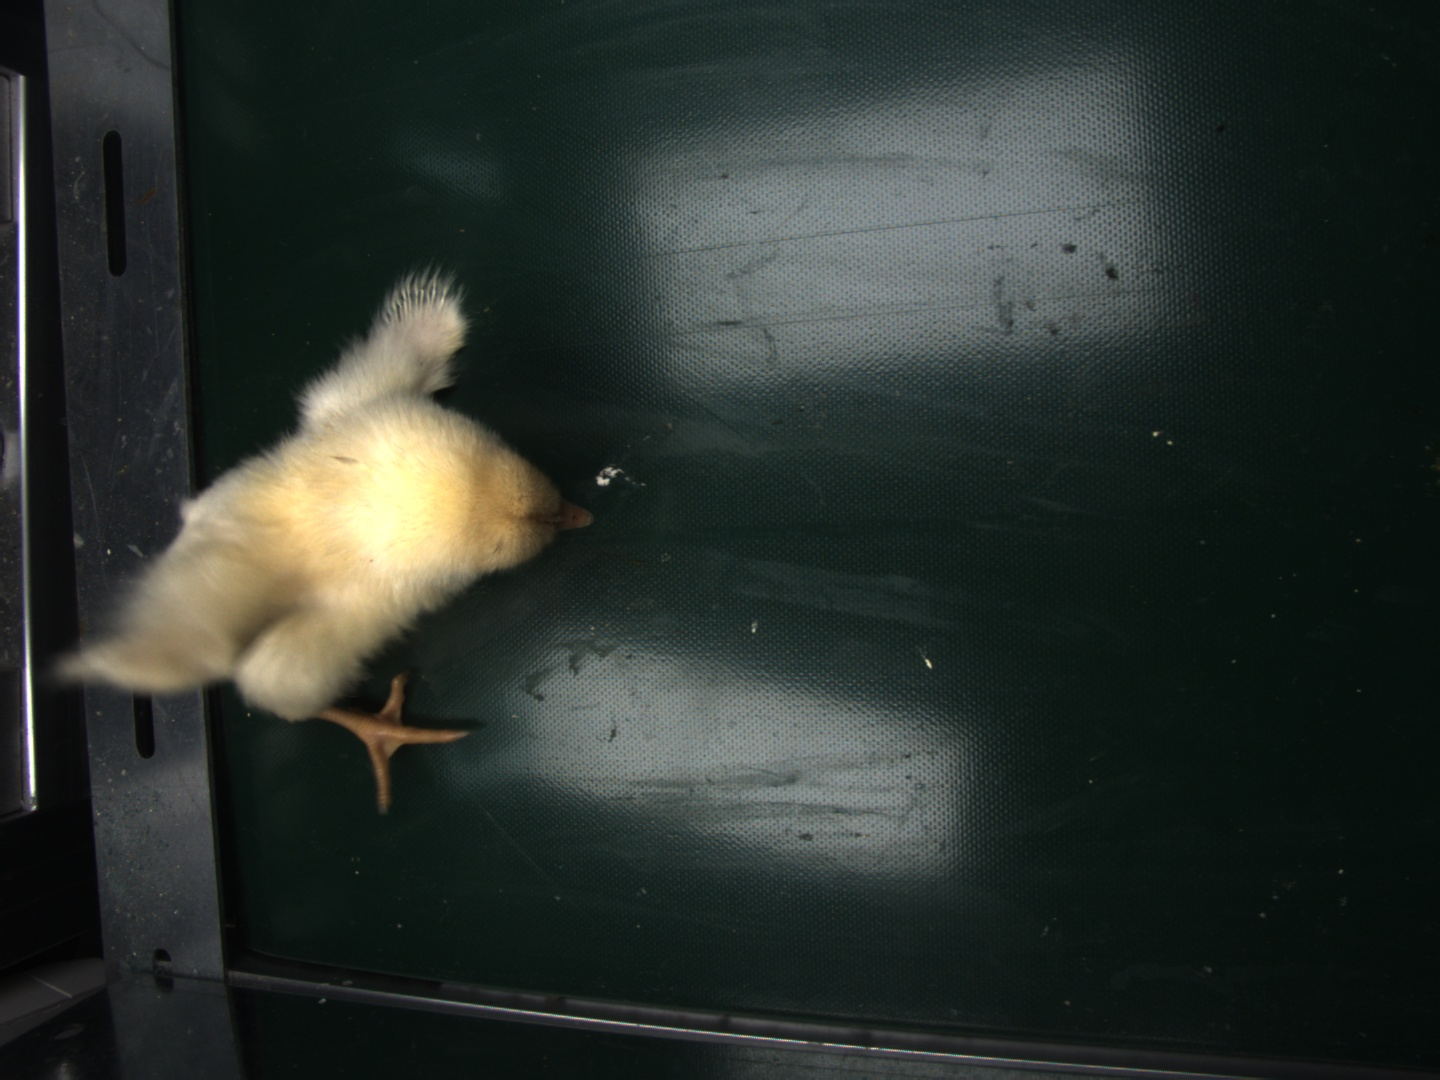male: (389, 287, 454, 324)
